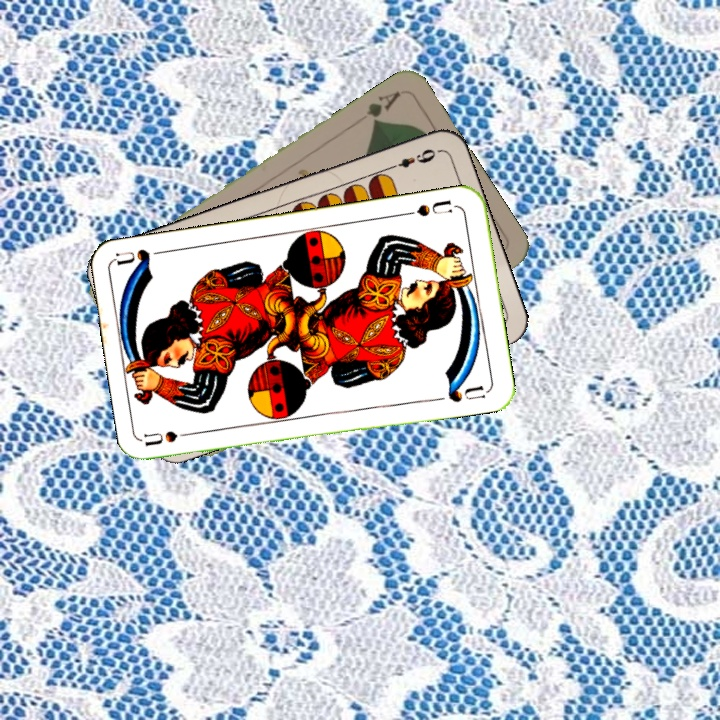E9: (383, 144, 439, 173)
GA: (362, 86, 404, 127)
SU: (401, 195, 460, 219), (142, 427, 202, 449)
